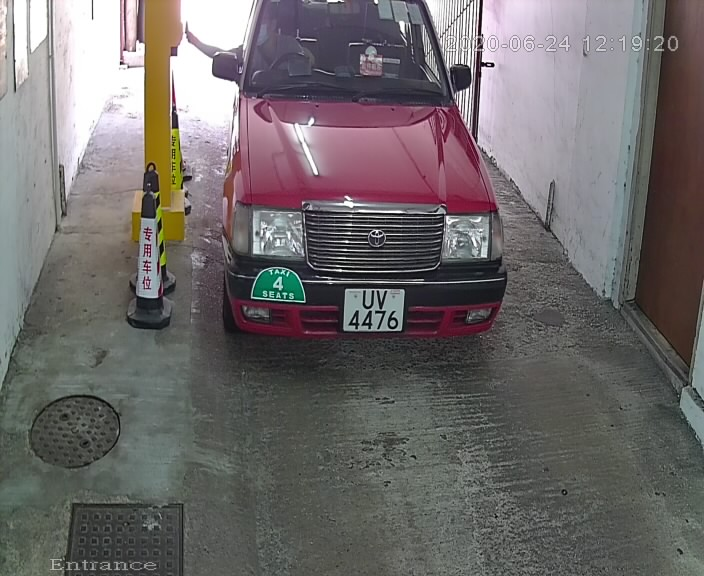Car: (199, 1, 515, 378)
License Plate: (335, 282, 411, 344)
